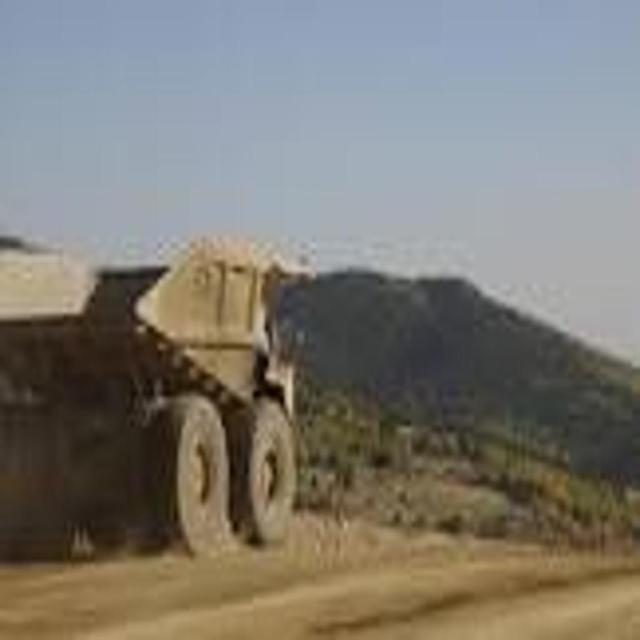dump_truck: (2, 210, 316, 590)
